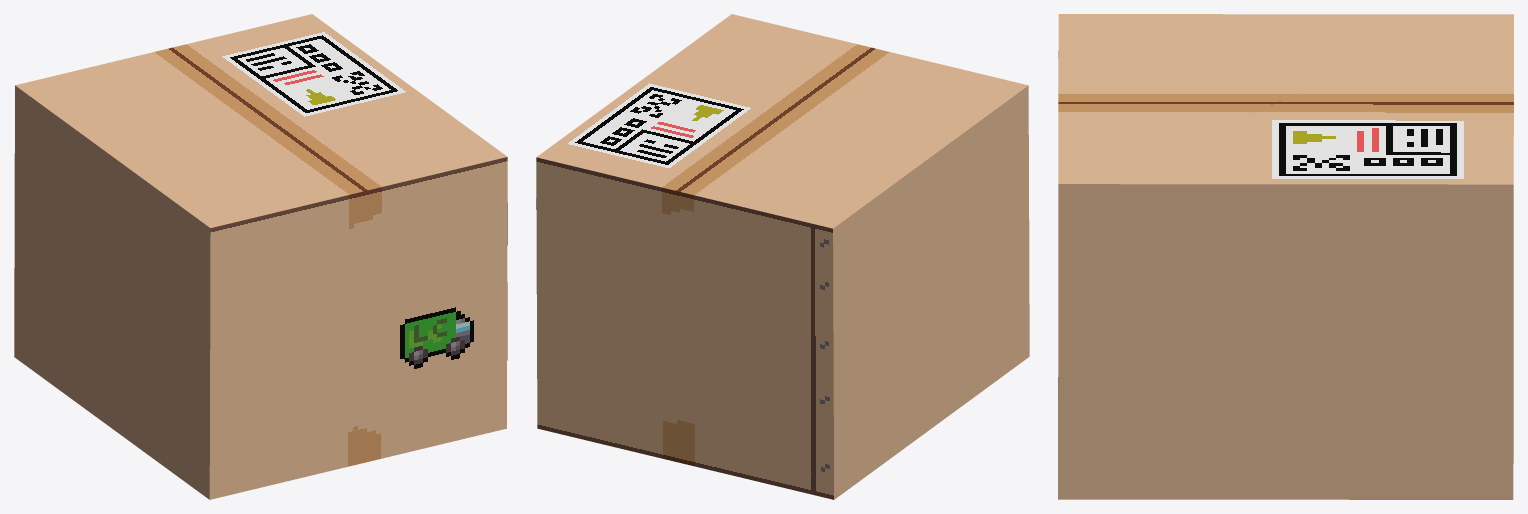
The model's file is BoxLarge.glb.
The picture shows the model from 3 angles, left to right: view 1: azimuth 30°, elevation 25°; view 2: azimuth 150°, elevation 25°; view 3: azimuth 270°, elevation 25°; orthographic projection. The views are drawn at different scales.
Visible parts, largest first — view 1: BoxPackageLarge; view 2: BoxPackageLarge; view 3: BoxPackageLarge.
Boxes of the visible parts, x1,y1,x2,y2 form: BoxPackageLarge: (14,14,507,499); BoxPackageLarge: (536,14,1029,499); BoxPackageLarge: (1058,14,1513,499).
Size of the model in its own units: 0.8802 by 0.7696 by 1.
1 material, 1 textured.
